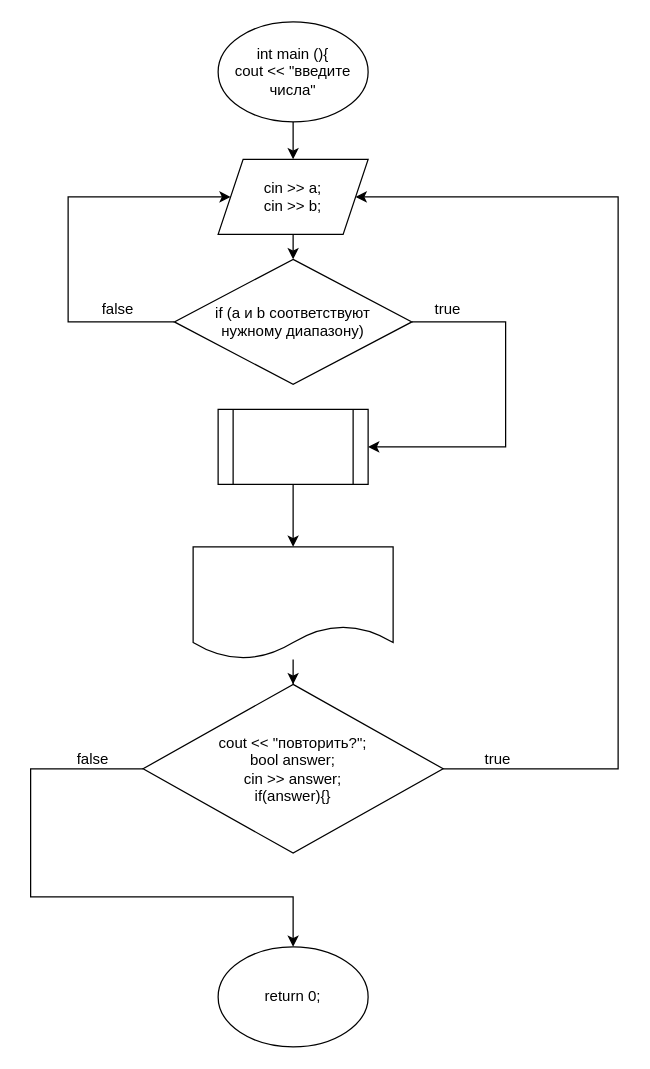
Image size: 650x1069. Some labels were removed from this diagram. The shapes that lost their labels are listed below. From the top down, each one's centre as x and y in pixels, then its label:
the point at 292,446: func_sum(a, b){ c = a + b; }
the point at 292,602: cout << "сумма чисел: "; cout << c << endl;
